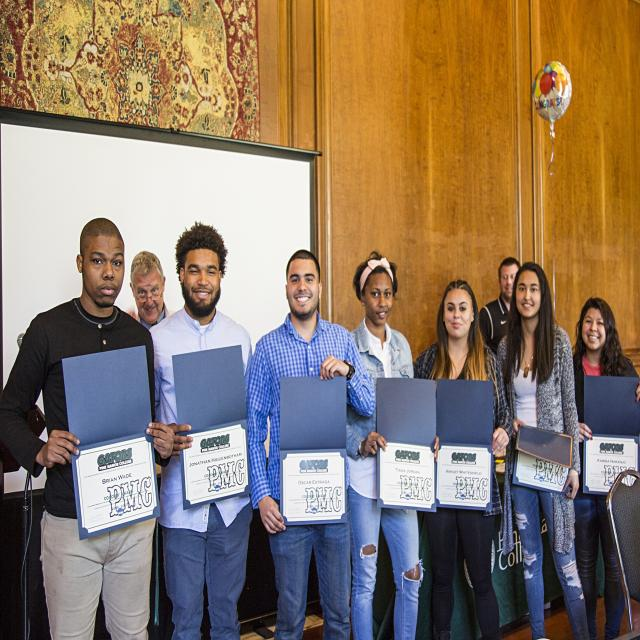body: (1, 215, 175, 640), (245, 248, 378, 639), (146, 219, 253, 640), (411, 279, 515, 640), (495, 260, 593, 640), (346, 251, 439, 640), (571, 297, 640, 639), (122, 250, 177, 639), (478, 256, 522, 356)
